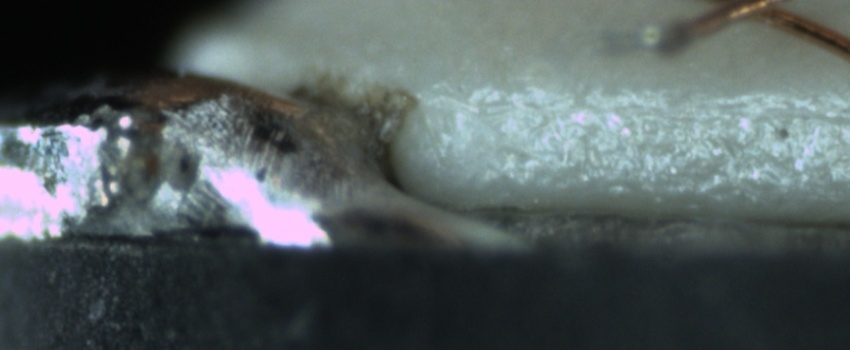CL: (710, 1, 802, 30)
DL: (470, 70, 850, 134)
